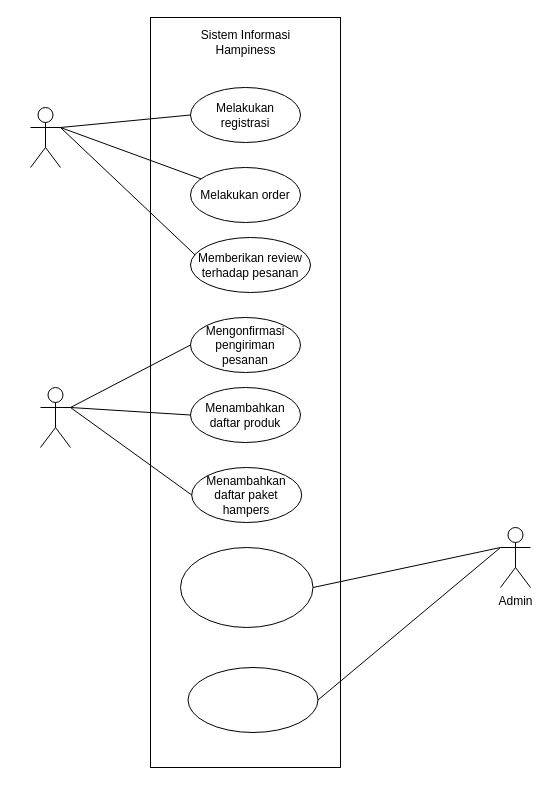
This 550x785 diagram has some shape labels left out. The shapes that lost their labels are listed below. From the top down, each one's centre as x and y in pixels, then its label:
At point 45,137: "Pelanggan".
At point 55,417: "Vendor".
At point 246,587: "Membuat laporan tren pemesanan hampers".
At point 252,699: "Membuat laporan ringkasan aktivitas transaksi".
